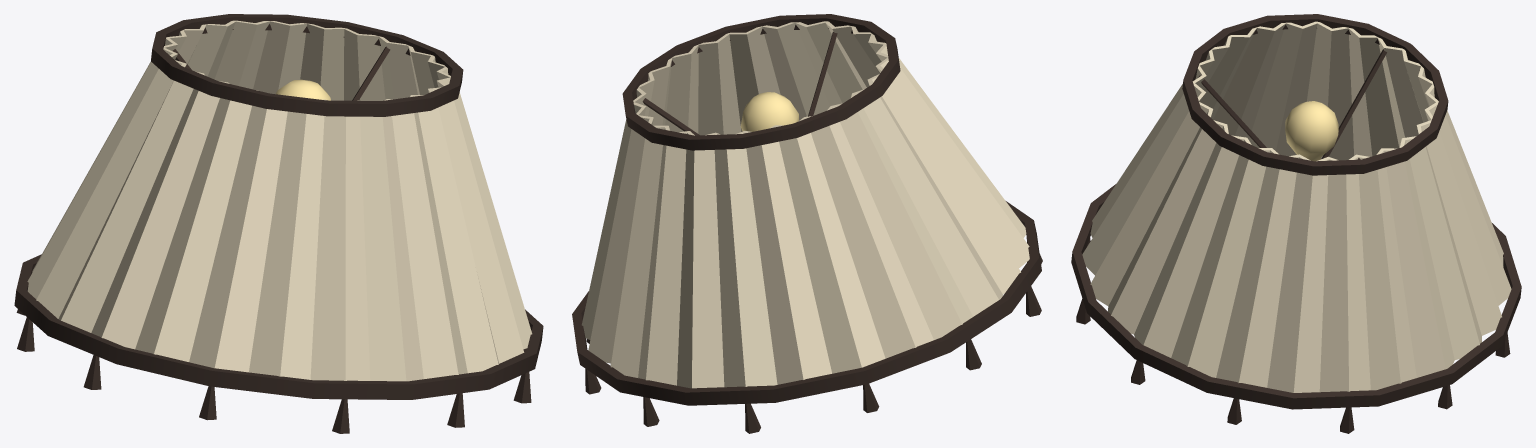
Rendered from Cosmetic_Hat_Lampshade.fbx.
The picture shows the model from 3 angles, left to right: view 1: azimuth 30°, elevation 25°; view 2: azimuth 150°, elevation 25°; view 3: azimuth 270°, elevation 25°; orthographic projection. The views are drawn at different scales.
Visible parts, largest first — view 1: Shade, Trim, Bulb; view 2: Shade, Trim, Bulb; view 3: Shade, Trim, Bulb.
Part boxes in pixels (x1,y1,x2,y2): Shade: [27, 20, 532, 381]; Trim: [14, 14, 543, 433]; Bulb: [276, 79, 330, 100]; Shade: [581, 21, 1029, 388]; Trim: [572, 14, 1042, 433]; Bulb: [740, 92, 798, 131]; Shade: [1082, 21, 1511, 392]; Trim: [1071, 14, 1521, 433]; Bulb: [1285, 101, 1338, 161].
Bounding box in the file's own units: 178 × 130 × 180.
